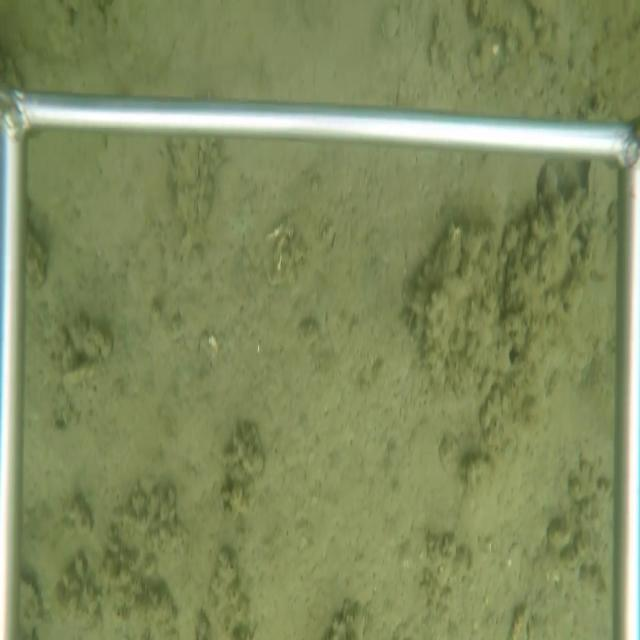Oyster-Closed: (585, 160, 618, 222)
Oyster-Indeterminate: (499, 195, 587, 370)
